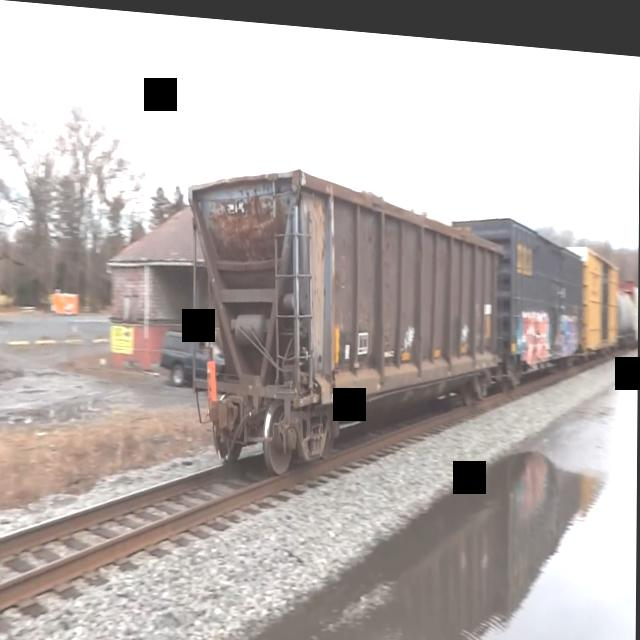gondola: (158, 145, 509, 492)
